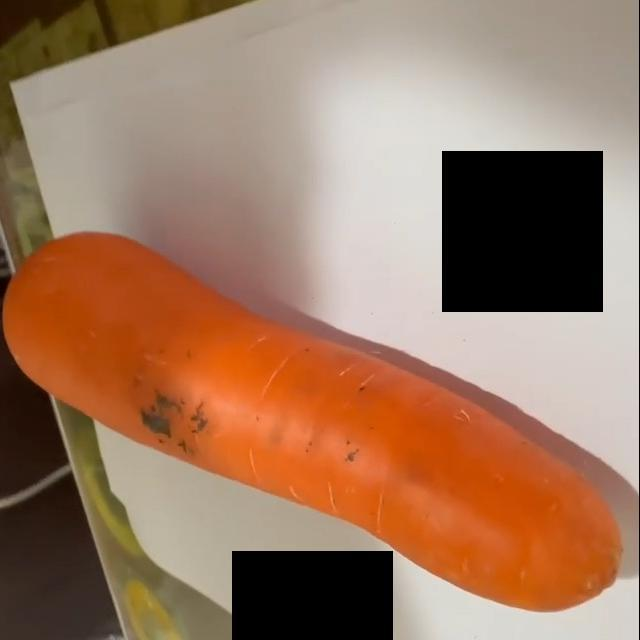carrot: (2, 231, 625, 616)
